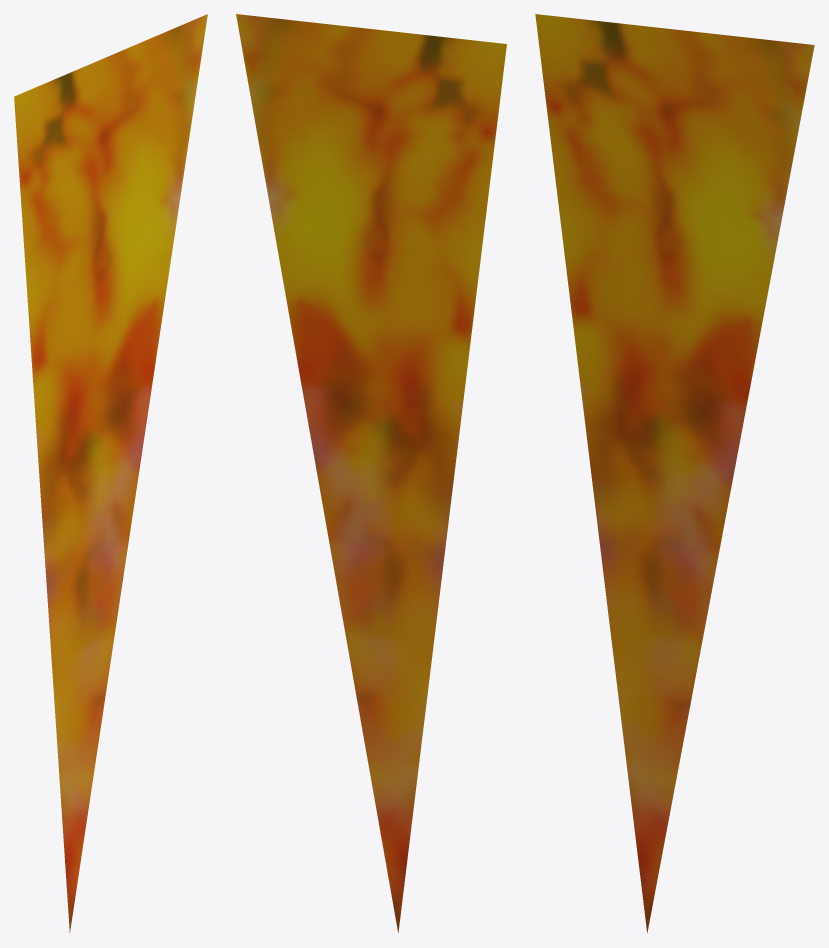
Rendered from Island_2_LatTri_2.gltf.
The picture shows the model from 3 angles, left to right: view 1: azimuth 30°, elevation 25°; view 2: azimuth 150°, elevation 25°; view 3: azimuth 330°, elevation 25°; orthographic projection. The views are drawn at different scales.
Visible parts, largest first — view 1: Island_2_LatTri_2; view 2: Island_2_LatTri_2; view 3: Island_2_LatTri_2.
Boxes of the visible parts, x1=… form: Island_2_LatTri_2: x1=14, y1=14, x2=207, y2=933; Island_2_LatTri_2: x1=236, y1=14, x2=506, y2=932; Island_2_LatTri_2: x1=535, y1=14, x2=814, y2=932.
Bounding box in the file's own units: 1.36 × 4.94 × 0.3704.
Materials: 1 (1 with a texture image).
